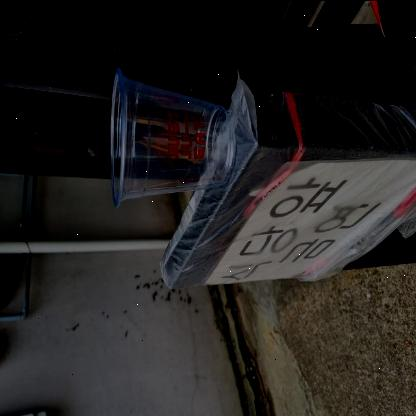Others: (102, 62, 240, 210)
